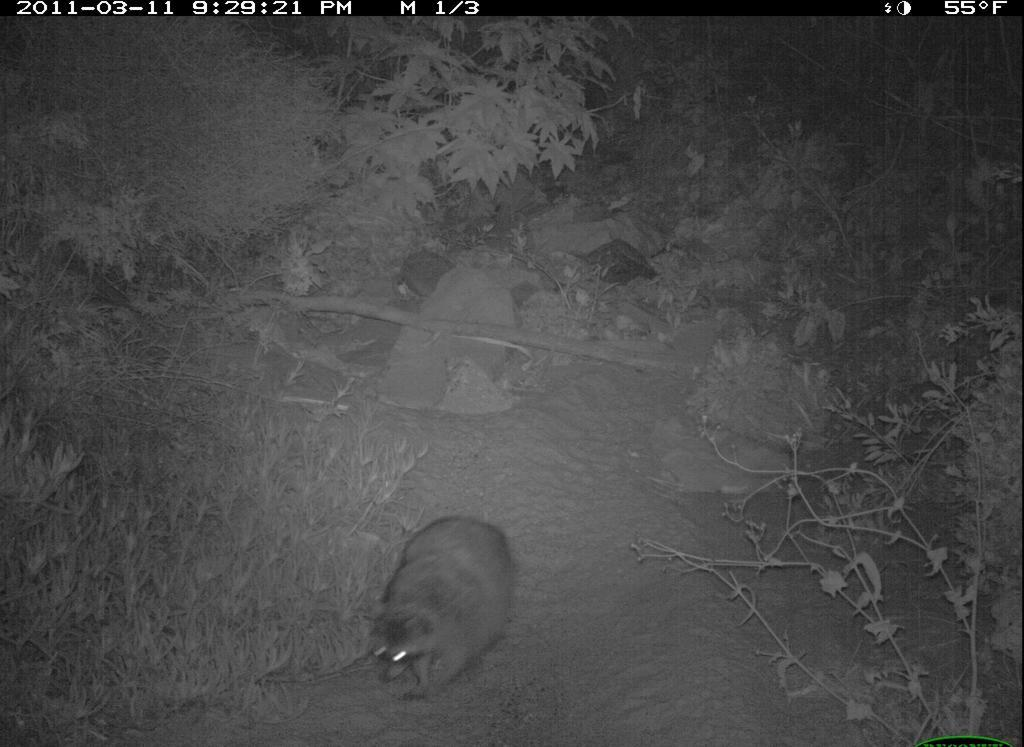raccoon: (363, 511, 520, 705)
